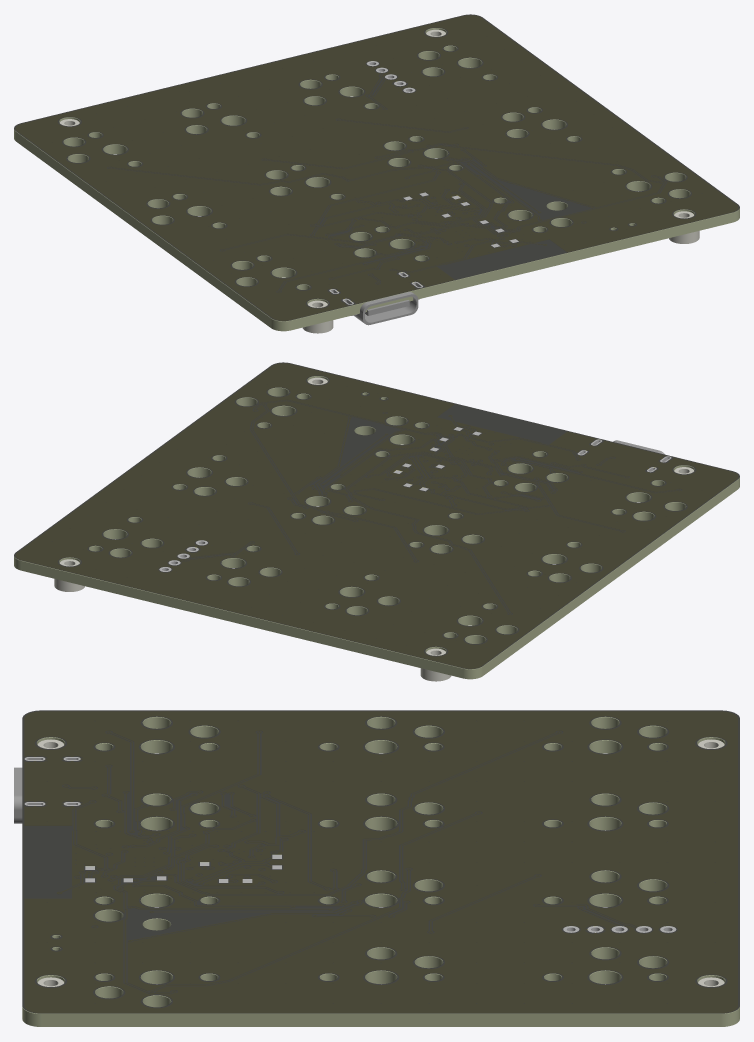
Rendered from board.glb.
3 views of the same model, one above another, from view 1: azimuth 30°, elevation 25°; view 2: azimuth 150°, elevation 25°; view 3: azimuth 270°, elevation 25° (orthographic). The views are drawn at different scales.
Visible parts, largest first — view 1: =>[0:1:1:36], =>[0:1:1:38], =>[0:1:1:9], =>[0:1:1:34]; view 2: =>[0:1:1:36], =>[0:1:1:38], =>[0:1:1:34]; view 3: =>[0:1:1:36], =>[0:1:1:38], =>[0:1:1:34].
Part boxes in pixels (x1=…): =>[0:1:1:36]: x1=14, y1=14, x2=739, y2=321; =>[0:1:1:38]: x1=14, y1=28, x2=739, y2=331; =>[0:1:1:9]: x1=351, y1=292, x2=419, y2=325; =>[0:1:1:34]: x1=329, y1=61, x2=518, y2=304; =>[0:1:1:36]: x1=14, y1=362, x2=739, y2=669; =>[0:1:1:38]: x1=14, y1=376, x2=739, y2=679; =>[0:1:1:34]: x1=159, y1=427, x2=671, y2=571; =>[0:1:1:36]: x1=22, y1=710, x2=739, y2=1013; =>[0:1:1:38]: x1=22, y1=716, x2=739, y2=1026; =>[0:1:1:34]: x1=24, y1=757, x2=676, y2=932.
Size of the model in its own units: 0.0752 by 0.00364 by 0.0761.
